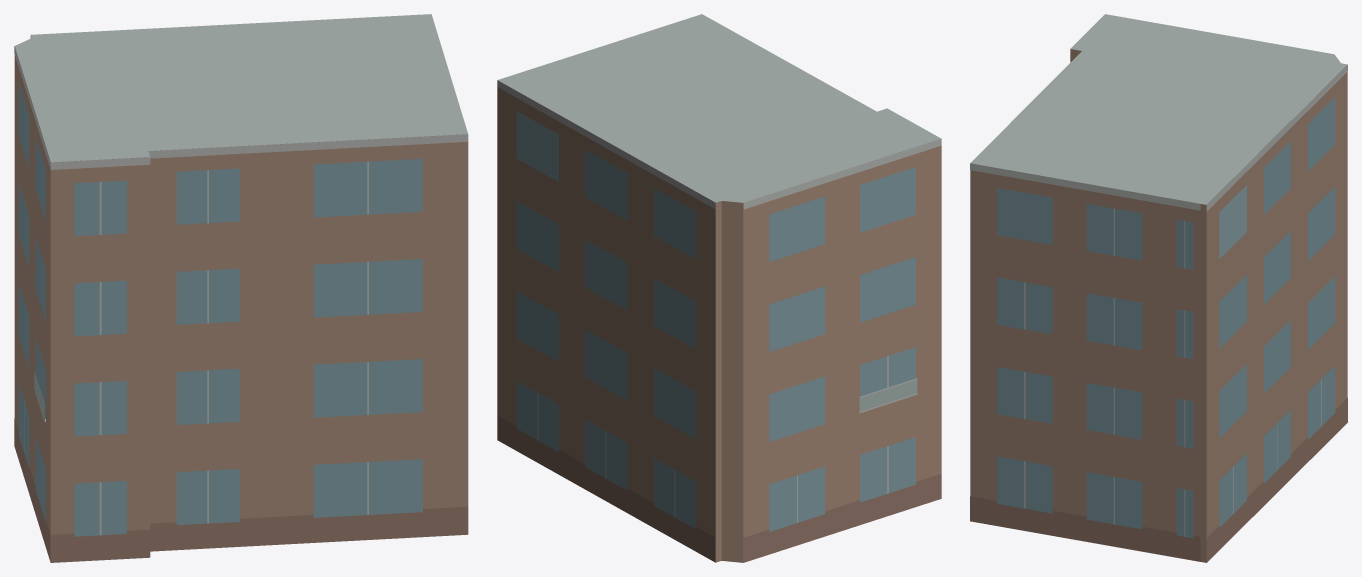
File: survey-upis-32567332.glb
3 views of the same model, side by side, from view 1: azimuth 30°, elevation 25°; view 2: azimuth 150°, elevation 25°; view 3: azimuth 270°, elevation 25° (orthographic). The views are drawn at different scales.
Visible parts, largest first — view 1: survey-upis-32567332.tmp; view 2: survey-upis-32567332.tmp; view 3: survey-upis-32567332.tmp.
Part boxes in pixels (<box>): survey-upis-32567332.tmp: <box>14,14,468,562</box>; survey-upis-32567332.tmp: <box>497,14,941,562</box>; survey-upis-32567332.tmp: <box>970,14,1347,562</box>.
Size of the model in its own units: 14.64 by 12.8 by 12.25.
